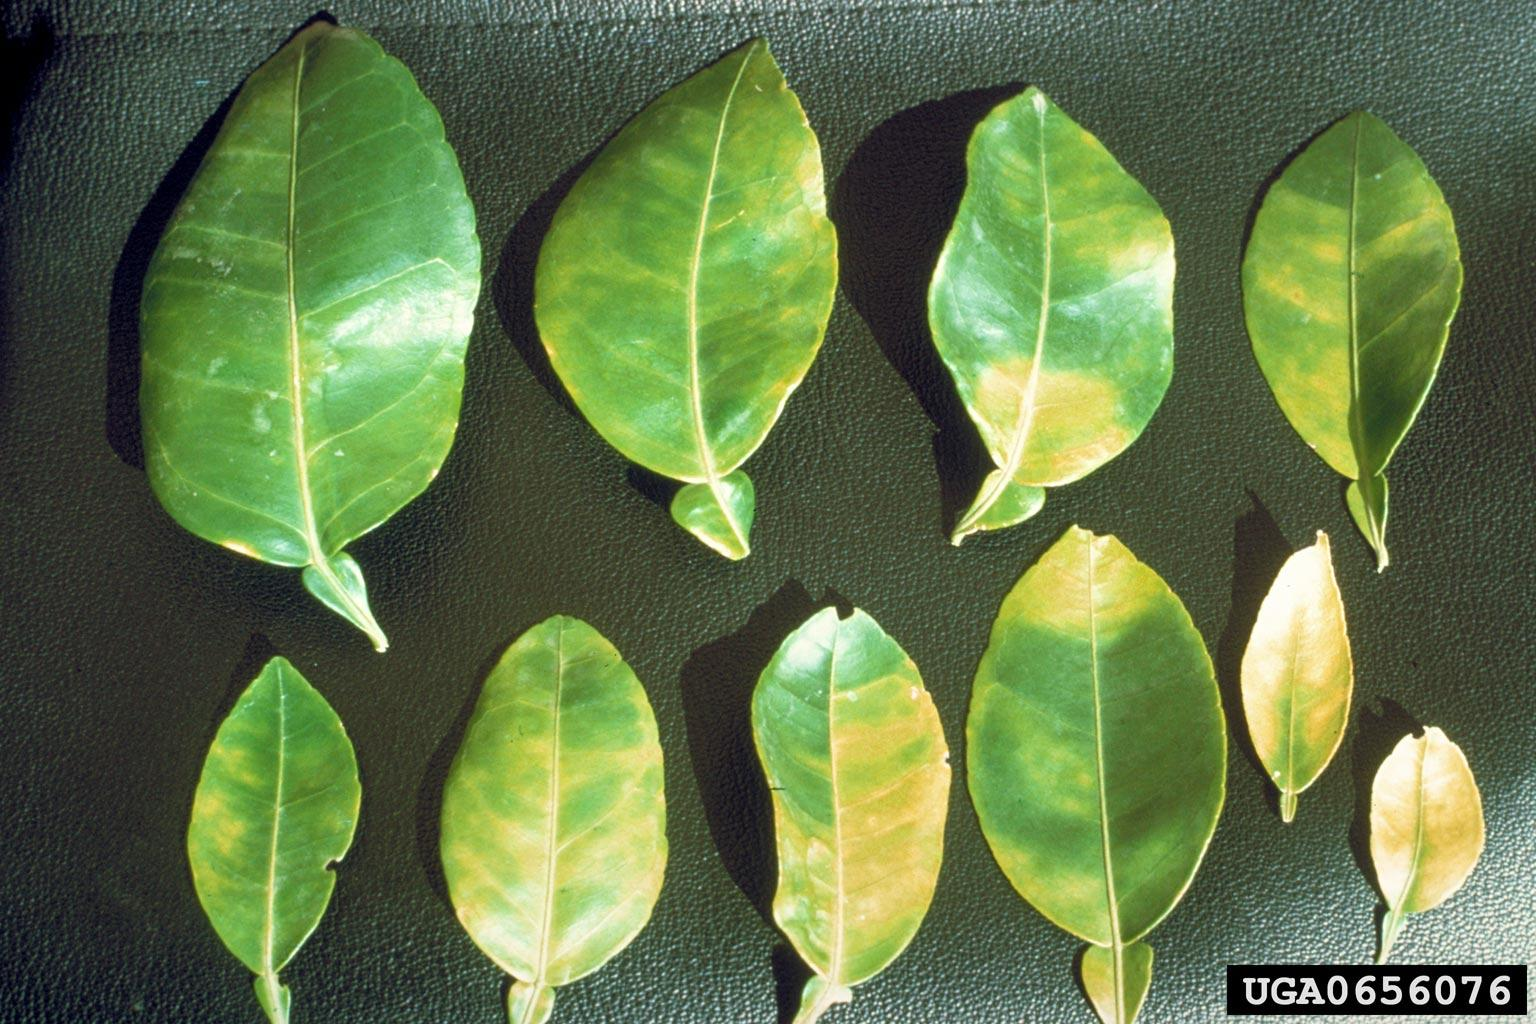Citrus Greening: (136, 5, 487, 648), (530, 31, 847, 568), (961, 518, 1235, 1024), (926, 74, 1183, 555), (1238, 104, 1469, 573), (433, 610, 671, 1024), (745, 602, 953, 1024), (182, 651, 366, 1024)
